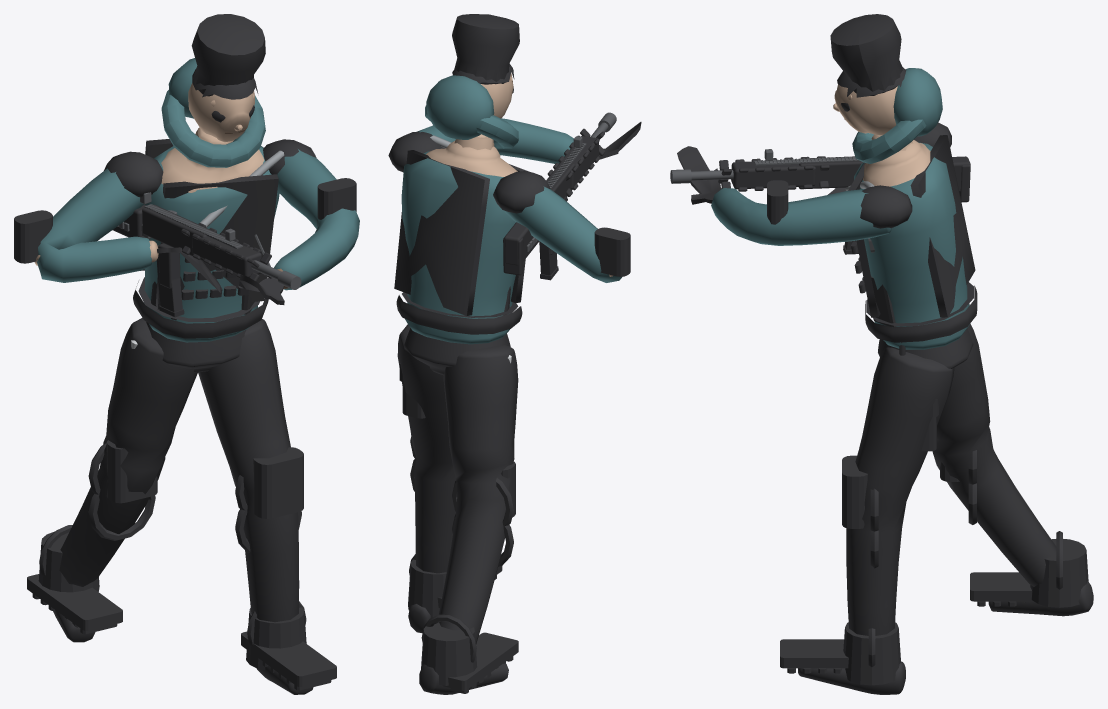
File: arctic-station-fps-kit-attacker-medium-aiming-fae9d485__28523.glb
3 views of the same model, side by side, from view 1: azimuth 30°, elevation 25°; view 2: azimuth 150°, elevation 25°; view 3: azimuth 270°, elevation 25° (orthographic). The views are drawn at different scales.
Visible parts, largest first — view 1: attacker-medium-aiming; view 2: attacker-medium-aiming; view 3: attacker-medium-aiming.
Part boxes in pixels (x1=…): attacker-medium-aiming: x1=14, y1=14, x2=359, y2=694; attacker-medium-aiming: x1=388, y1=14, x2=641, y2=694; attacker-medium-aiming: x1=670, y1=14, x2=1093, y2=694.
Bounding box in the file's own units: 0.8019 × 1.85 × 1.1.
